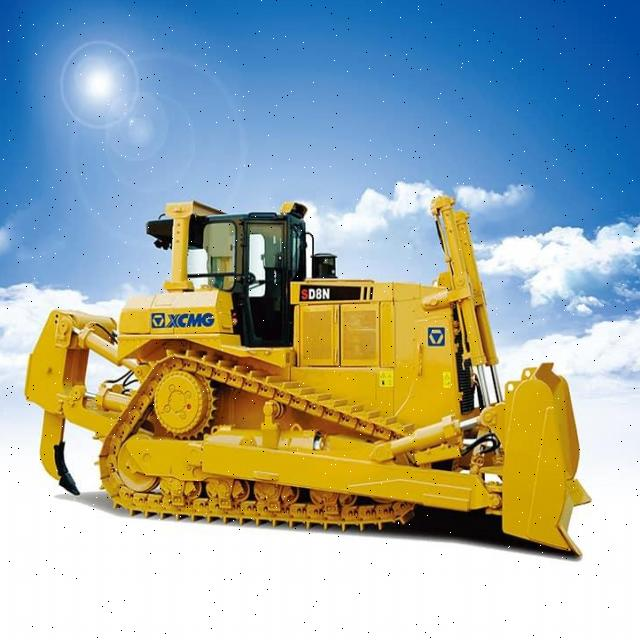Bulldozer: (26, 186, 594, 564)
